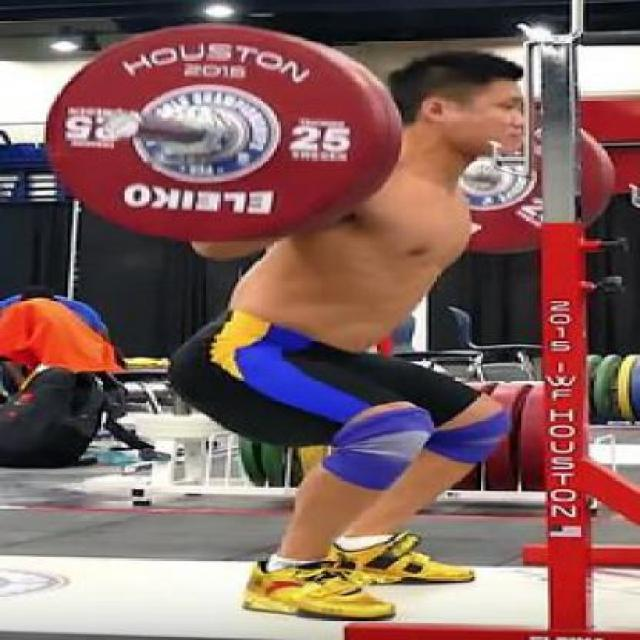Barbell: (99, 110, 148, 144)
